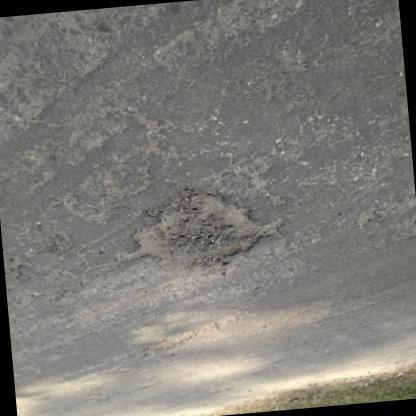pothole: (132, 191, 281, 270)
